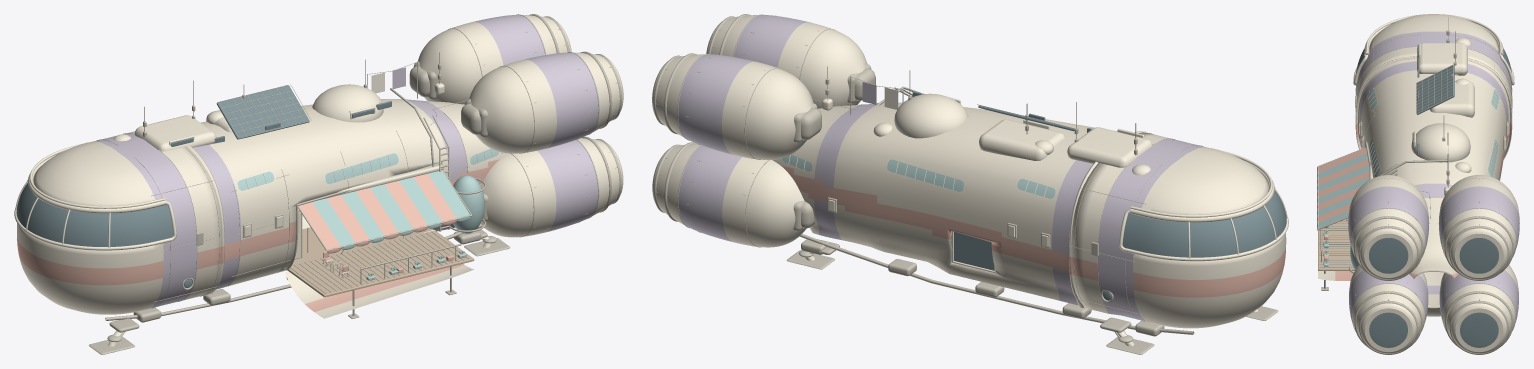
The model's file is playable.glb.
3 views of the same model, side by side, from view 1: azimuth 30°, elevation 25°; view 2: azimuth 150°, elevation 25°; view 3: azimuth 270°, elevation 25° (orthographic). The views are drawn at different scales.
Visible parts, largest first — view 1: hull surfaces, booster-starboard-upper surfaces, booster-starboard-lower surfaces, porch-panel surfaces, awning surfaces, booster-port-upper surfaces, cockpit surfaces, roof surfaces, solar-panel surfaces, water-tank surfaces, landing-foot-0 surfaces, laundry surfaces (+1 smaller); view 2: hull surfaces, booster-port-upper surfaces, booster-port-lower surfaces, booster-starboard-upper surfaces, roof surfaces, cockpit surfaces, landing-foot-1 surfaces, laundry surfaces, landing-foot-3 surfaces; view 3: hull surfaces, booster-port-upper surfaces, booster-starboard-upper surfaces, booster-starboard-lower surfaces, booster-port-lower surfaces, roof surfaces, awning surfaces, porch-panel surfaces, solar-panel surfaces, cockpit surfaces.
Boxes of the visible parts, box(x1,y1,x2,y2) form: hull surfaces: box(17, 99, 508, 322); booster-starboard-upper surfaces: box(461, 51, 623, 153); booster-starboard-lower surfaces: box(480, 136, 623, 237); porch-panel surfaces: box(285, 229, 474, 318); awning surfaces: box(298, 170, 472, 253); booster-port-upper surfaces: box(409, 14, 571, 104); cockpit surfaces: box(14, 142, 176, 250); roof surfaces: box(113, 52, 444, 166); solar-panel surfaces: box(216, 84, 311, 139); water-tank surfaces: box(448, 175, 486, 233); landing-foot-0 surfaces: box(89, 318, 139, 354); laundry surfaces: box(367, 62, 417, 98); hull surfaces: box(772, 99, 1286, 336); booster-port-upper surfaces: box(652, 53, 821, 159); booster-port-lower surfaces: box(652, 142, 814, 247); booster-starboard-upper surfaces: box(706, 14, 875, 108); roof surfaces: box(822, 66, 1152, 175); cockpit surfaces: box(1119, 148, 1288, 261); landing-foot-1 surfaces: box(1100, 317, 1154, 354); laundry surfaces: box(850, 76, 903, 114); landing-foot-3 surfaces: box(786, 240, 839, 269); hull surfaces: box(1355, 14, 1512, 316); booster-port-upper surfaces: box(1438, 175, 1519, 280); booster-starboard-upper surfaces: box(1348, 175, 1429, 280); booster-starboard-lower surfaces: box(1349, 265, 1428, 354); booster-port-lower surfaces: box(1439, 265, 1518, 354); roof surfaces: box(1377, 17, 1474, 195); awning surfaces: box(1317, 147, 1369, 230); porch-panel surfaces: box(1318, 218, 1354, 280); solar-panel surfaces: box(1416, 64, 1454, 114); cockpit surfaces: box(1353, 14, 1514, 85).
Bounding box in the file's own units: 40.2 × 13.95 × 14.31.
